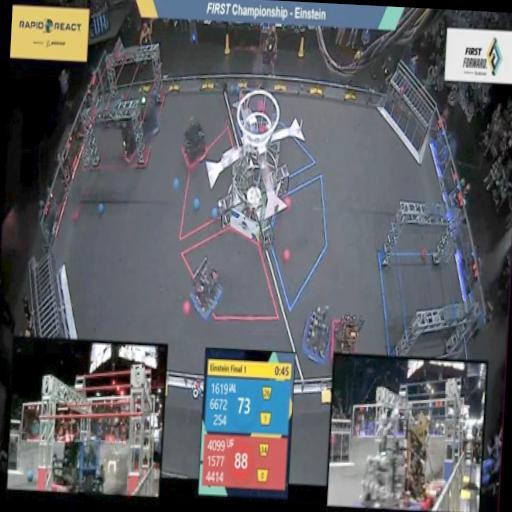robot: (186, 254, 226, 323), (329, 298, 365, 372), (175, 106, 213, 174), (296, 300, 334, 366)
